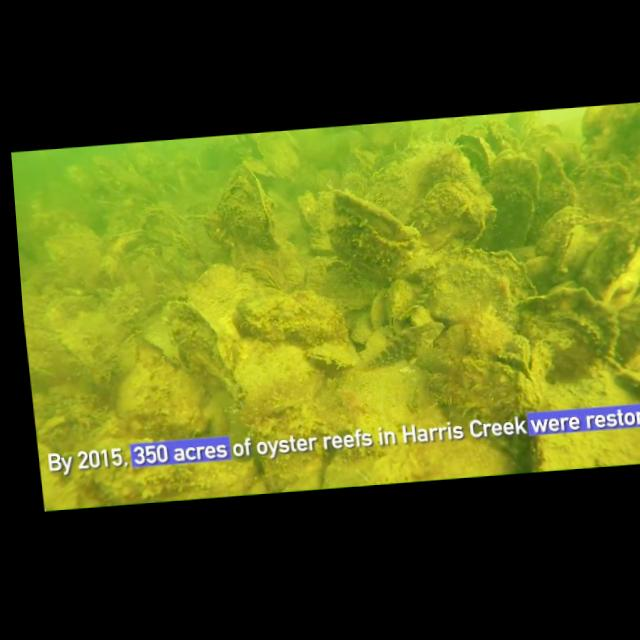Oyster-Closed: (209, 162, 278, 250), (545, 223, 596, 280), (307, 337, 353, 373), (240, 261, 282, 292), (105, 225, 149, 249)
Oyster-Indeterminate: (75, 424, 261, 508), (423, 351, 549, 463), (410, 237, 542, 334), (322, 185, 426, 282), (507, 281, 622, 366), (247, 399, 333, 493), (159, 298, 238, 397), (237, 340, 322, 419), (402, 181, 489, 247), (178, 245, 255, 316), (576, 100, 640, 170), (230, 287, 306, 343), (483, 150, 545, 211), (106, 363, 164, 423), (41, 224, 107, 275), (121, 241, 180, 298), (527, 199, 591, 248), (591, 248, 640, 311), (377, 271, 422, 336), (492, 184, 535, 244), (140, 197, 189, 247), (415, 152, 474, 192), (516, 246, 563, 287), (610, 184, 640, 248), (454, 127, 495, 172), (166, 230, 207, 270), (608, 362, 640, 403), (112, 336, 144, 376), (368, 286, 394, 328), (346, 311, 377, 346), (91, 351, 115, 389), (407, 306, 440, 328)
Oyster-Open: (36, 411, 72, 442)
